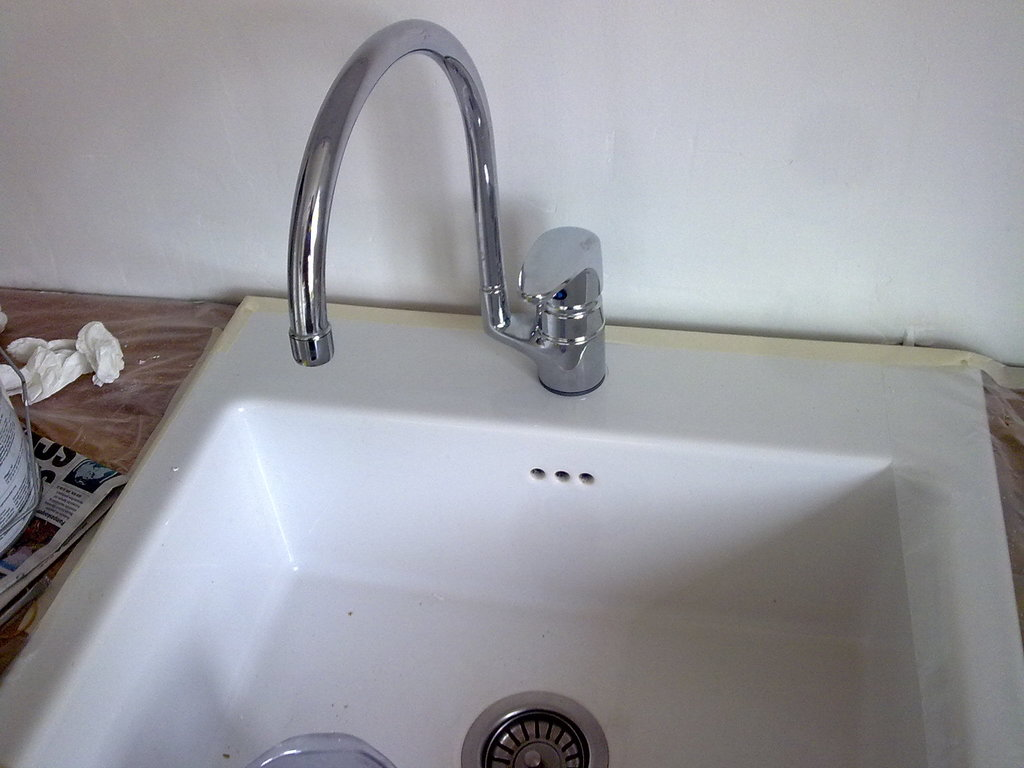tap: (284, 8, 608, 394)
